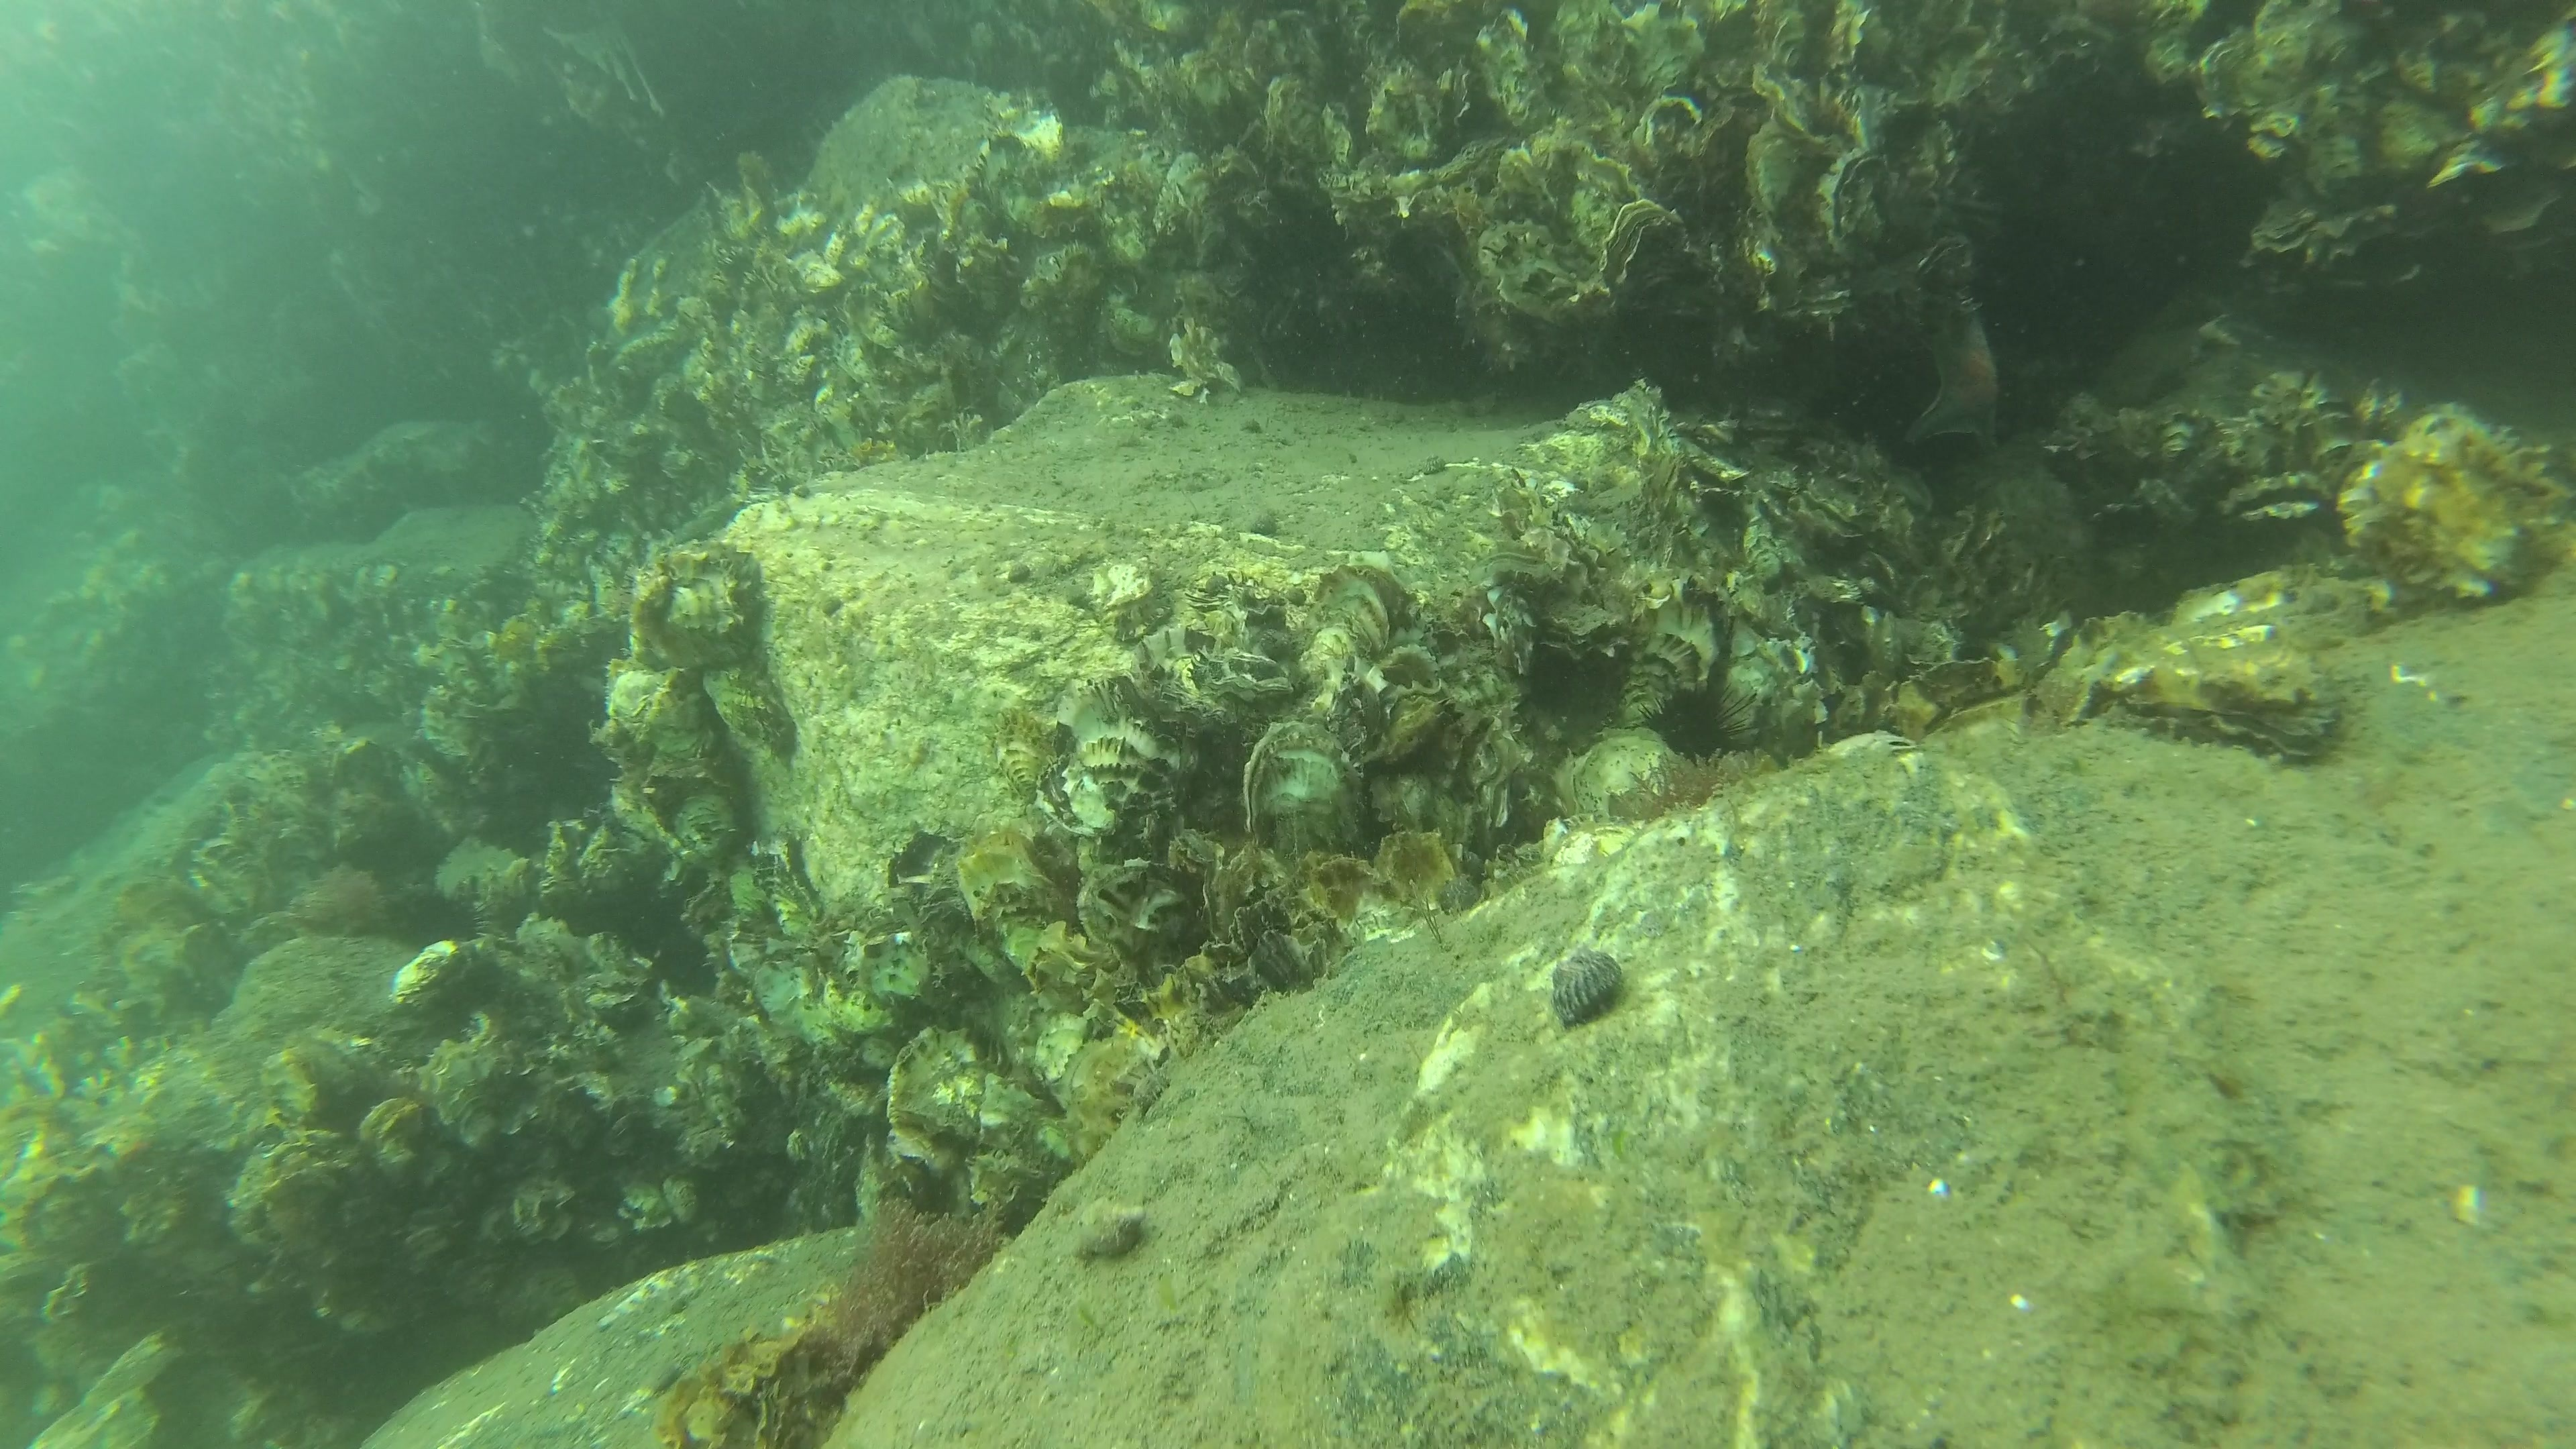echinus: (1633, 679, 1767, 764)
starfish: (1904, 294, 2010, 476)
